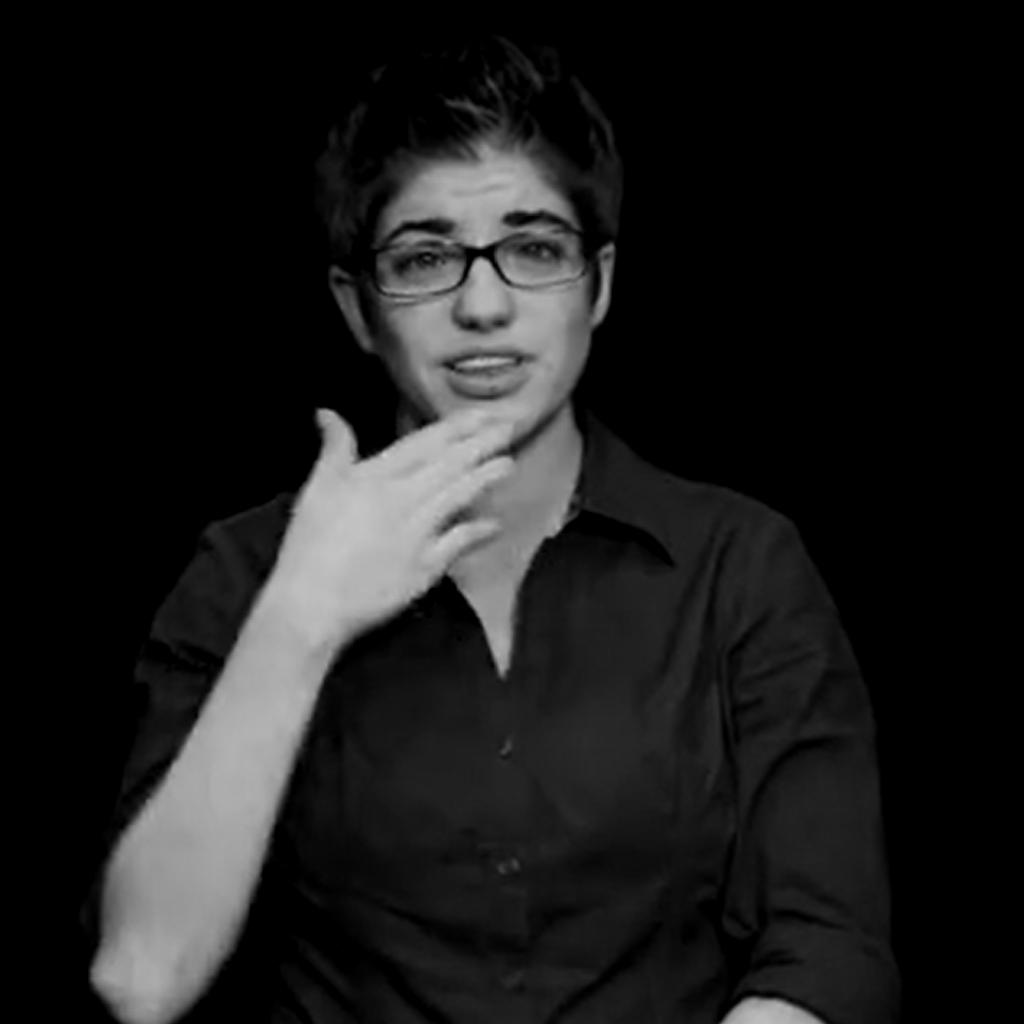thank-you: (276, 408, 516, 638)
